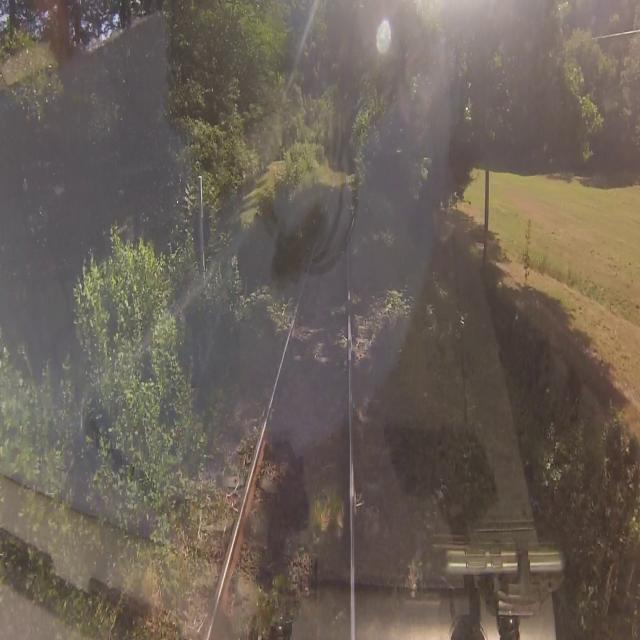Plant: (172, 382, 267, 634), (304, 485, 348, 555)
